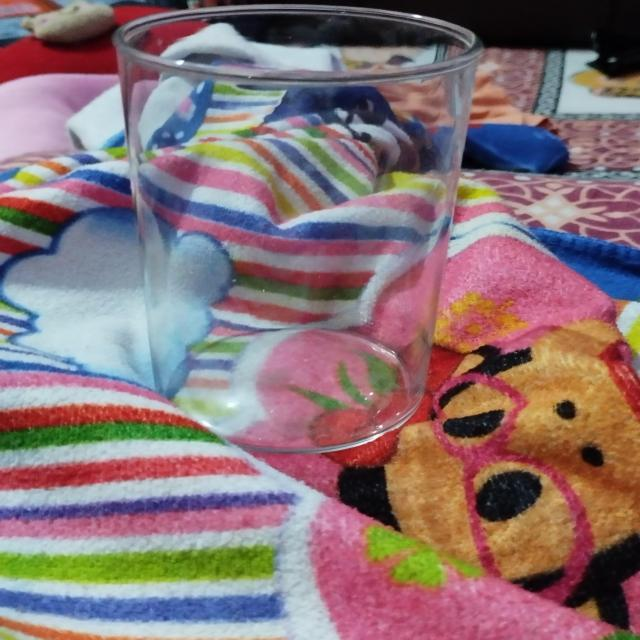cardboard: (1, 7, 638, 638)
cups: (110, 3, 484, 456)
